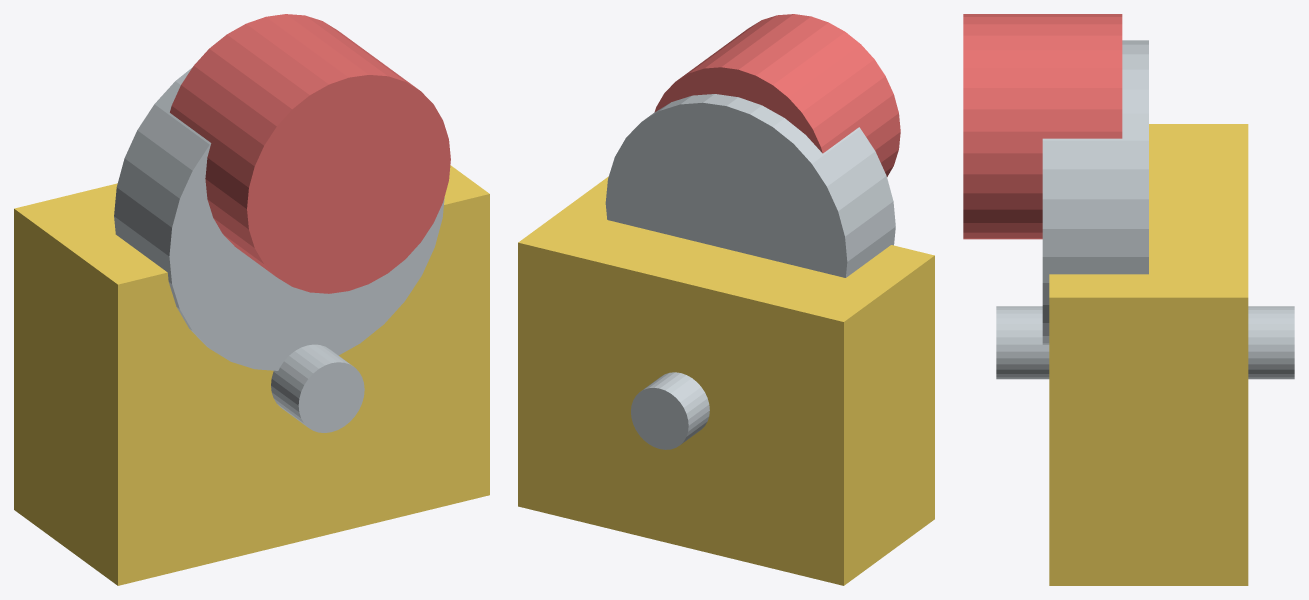
File: emergency_stop.glb
3 views of the same model, side by side, from view 1: azimuth 30°, elevation 25°; view 2: azimuth 150°, elevation 25°; view 3: azimuth 270°, elevation 25° (orthographic). The views are drawn at different scales.
Visible parts, largest first — view 1: emergency_stop_0, emergency_stop_2, emergency_stop_1, emergency_stop_4; view 2: emergency_stop_0, emergency_stop_1, emergency_stop_2, emergency_stop_3; view 3: emergency_stop_0, emergency_stop_2, emergency_stop_1, emergency_stop_4, emergency_stop_3.
Part boxes in pixels (left/top/right/bottom): emergency_stop_0: left=14, top=165, right=489, bottom=585; emergency_stop_2: left=170, top=14, right=450, bottom=293; emergency_stop_1: left=114, top=67, right=444, bottom=370; emergency_stop_4: left=271, top=344, right=364, bottom=432; emergency_stop_0: left=518, top=176, right=934, bottom=585; emergency_stop_1: left=605, top=94, right=895, bottom=277; emergency_stop_2: left=654, top=14, right=900, bottom=176; emergency_stop_3: left=631, top=372, right=709, bottom=449; emergency_stop_0: left=1049, top=124, right=1248, bottom=585; emergency_stop_2: left=963, top=14, right=1122, bottom=239; emergency_stop_1: left=1042, top=40, right=1148, bottom=344; emergency_stop_4: left=996, top=306, right=1049, bottom=379; emergency_stop_3: left=1248, top=306, right=1294, bottom=379.
Bounding box in the file's own units: 0.62 × 0.79 × 0.5.
